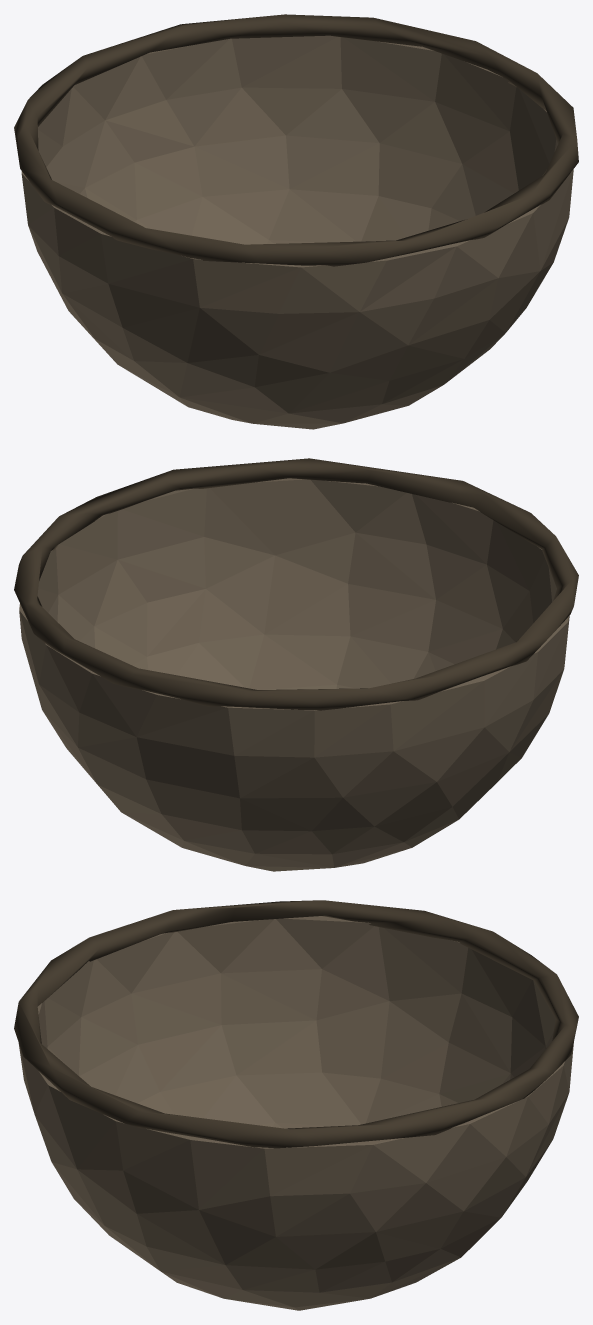
File: basket.fbx
The picture shows the model from 3 angles, top to bottom: view 1: azimuth 30°, elevation 25°; view 2: azimuth 150°, elevation 25°; view 3: azimuth 270°, elevation 25°; orthographic projection.
Parts seen in each view (by area): view 1: Sphere, BezierCircle; view 2: Sphere, BezierCircle; view 3: Sphere, BezierCircle.
Boxes of the visible parts, left/top/right/bottom form: Sphere: left=21, top=35, right=573, bottom=429; BezierCircle: left=14, top=14, right=578, bottom=266; Sphere: left=19, top=478, right=569, bottom=871; BezierCircle: left=14, top=458, right=578, bottom=710; Sphere: left=18, top=916, right=573, bottom=1310; BezierCircle: left=14, top=900, right=578, bottom=1148.
Size of the model in its own units: 203 by 107 by 203.
